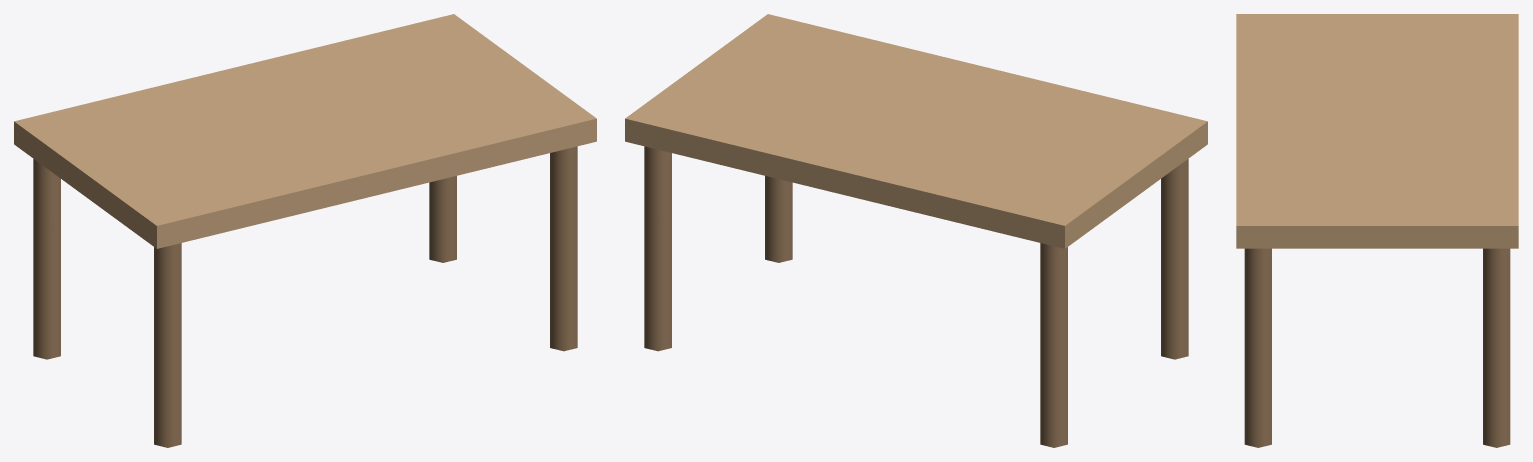
Rendered from mesa.glb.
The picture shows the model from 3 angles, left to right: view 1: azimuth 30°, elevation 25°; view 2: azimuth 150°, elevation 25°; view 3: azimuth 270°, elevation 25°; orthographic projection.
Parts seen in each view (by area): view 1: root; view 2: root; view 3: root.
Part boxes in pixels (left/top/right/bottom): root: left=14, top=14, right=596, bottom=447; root: left=625, top=14, right=1207, bottom=447; root: left=1236, top=14, right=1518, bottom=447.
Bounding box in the file's own units: 1.6 × 0.795 × 0.9.
